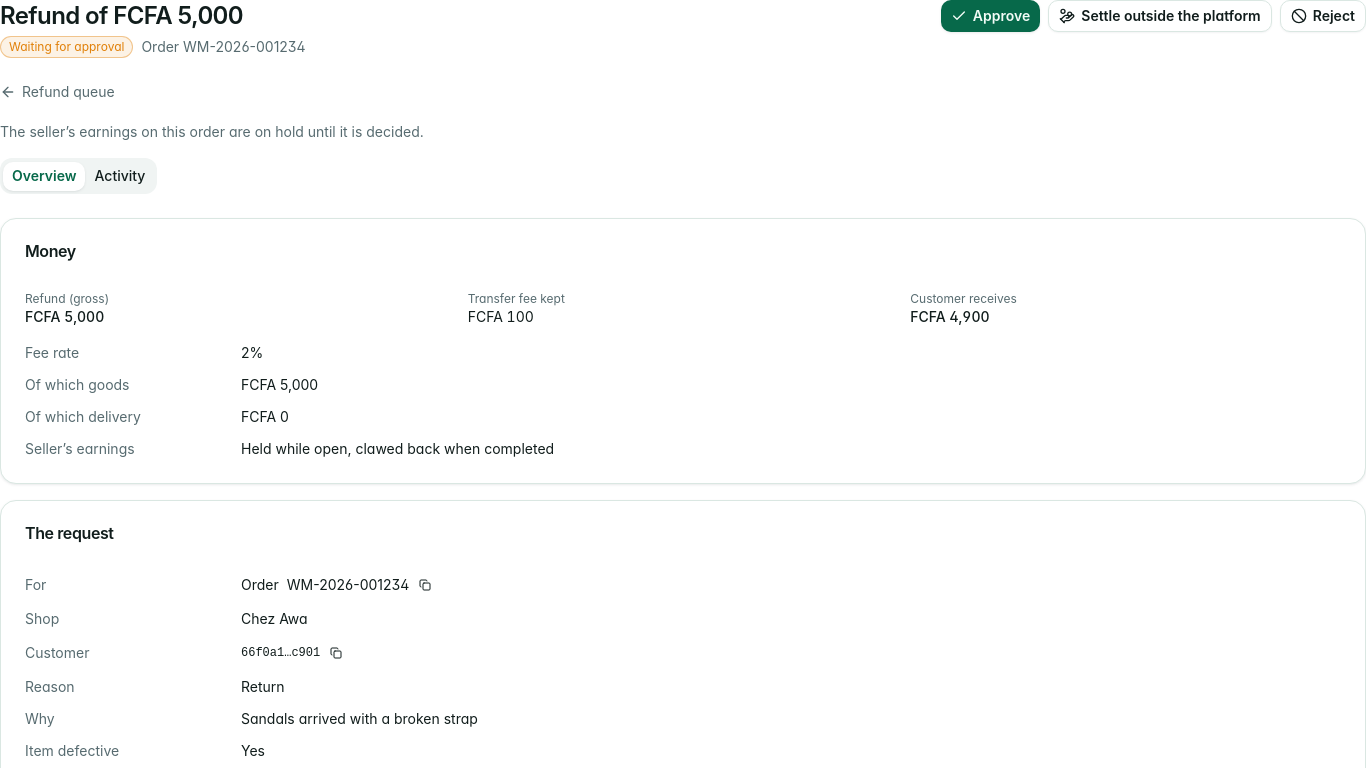
Test: settling outside the platform › will not record a hand payment without its proof picture
Click the button "Settle outside the platform" at (1160, 16), box [1048,0,1272,32]
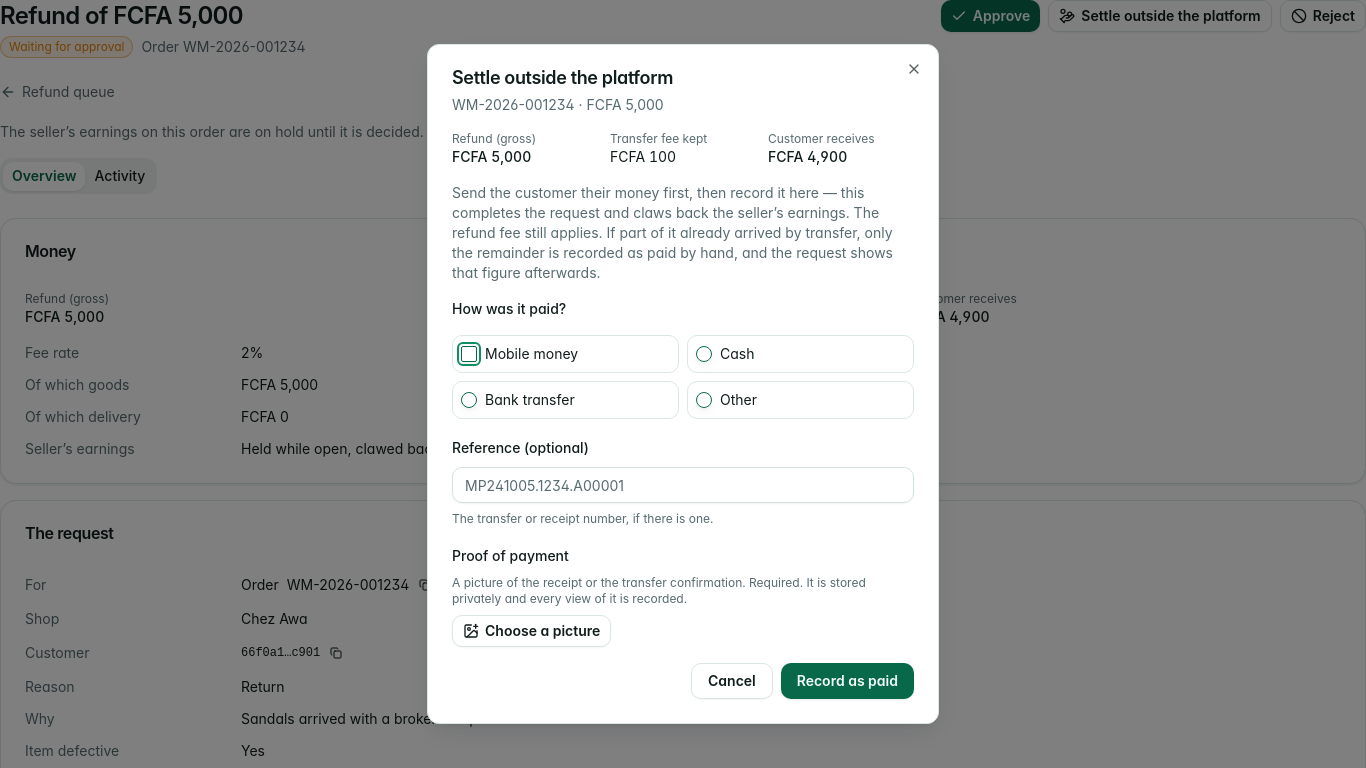
Click the radio button named "cash" next to "Cash" at (704, 354), box [696,346,712,362]
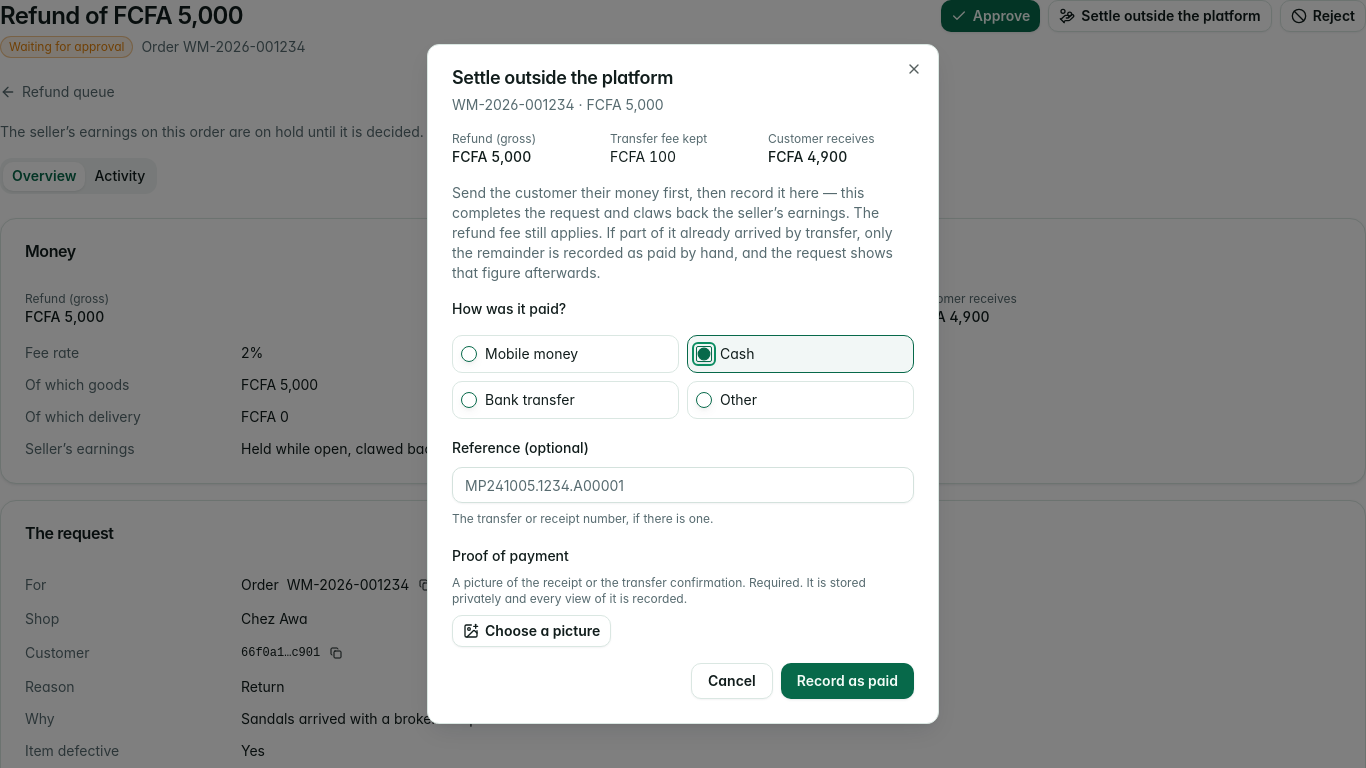
Click the button "Record as paid" at (847, 681), box [781,663,914,699]
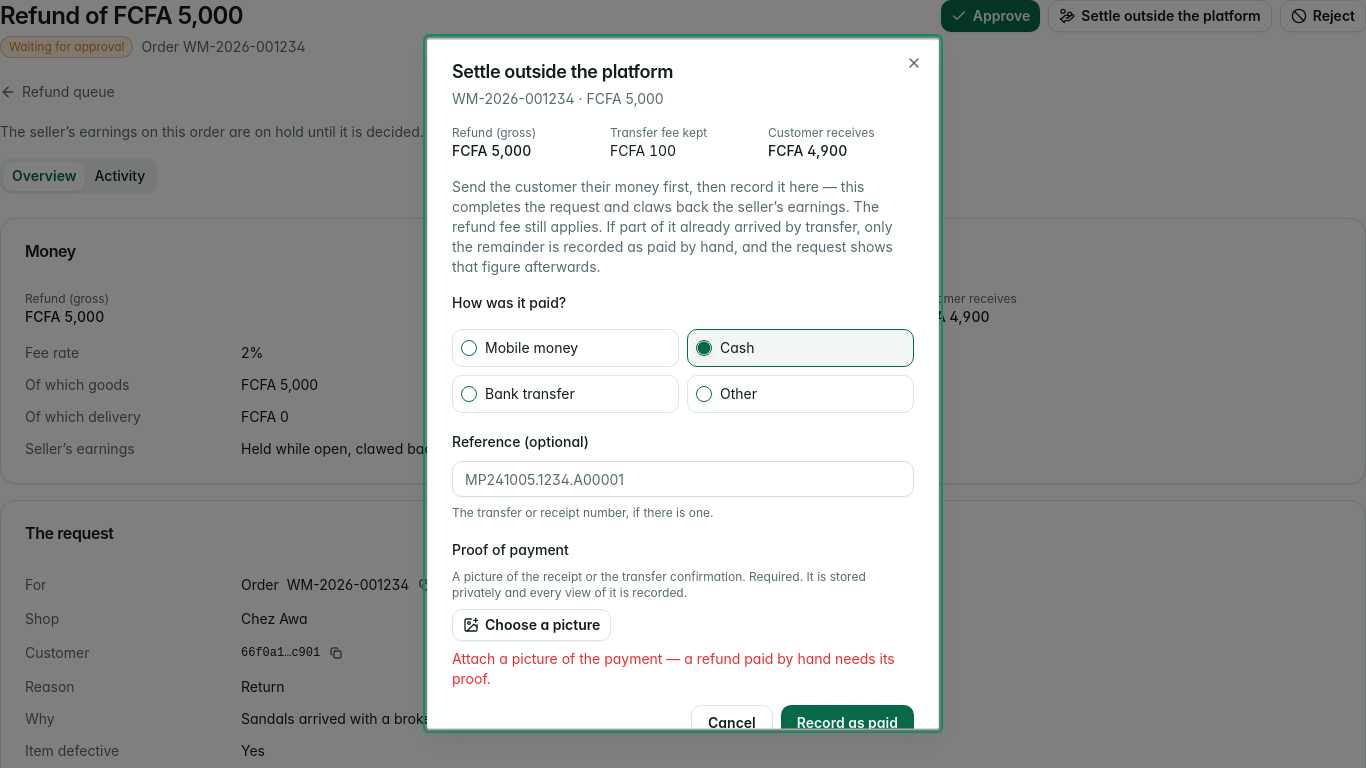
Check: the text "Attach a picture of the payment — a refund paid by hand needs its proof." is shown, box [452,649,914,689]
